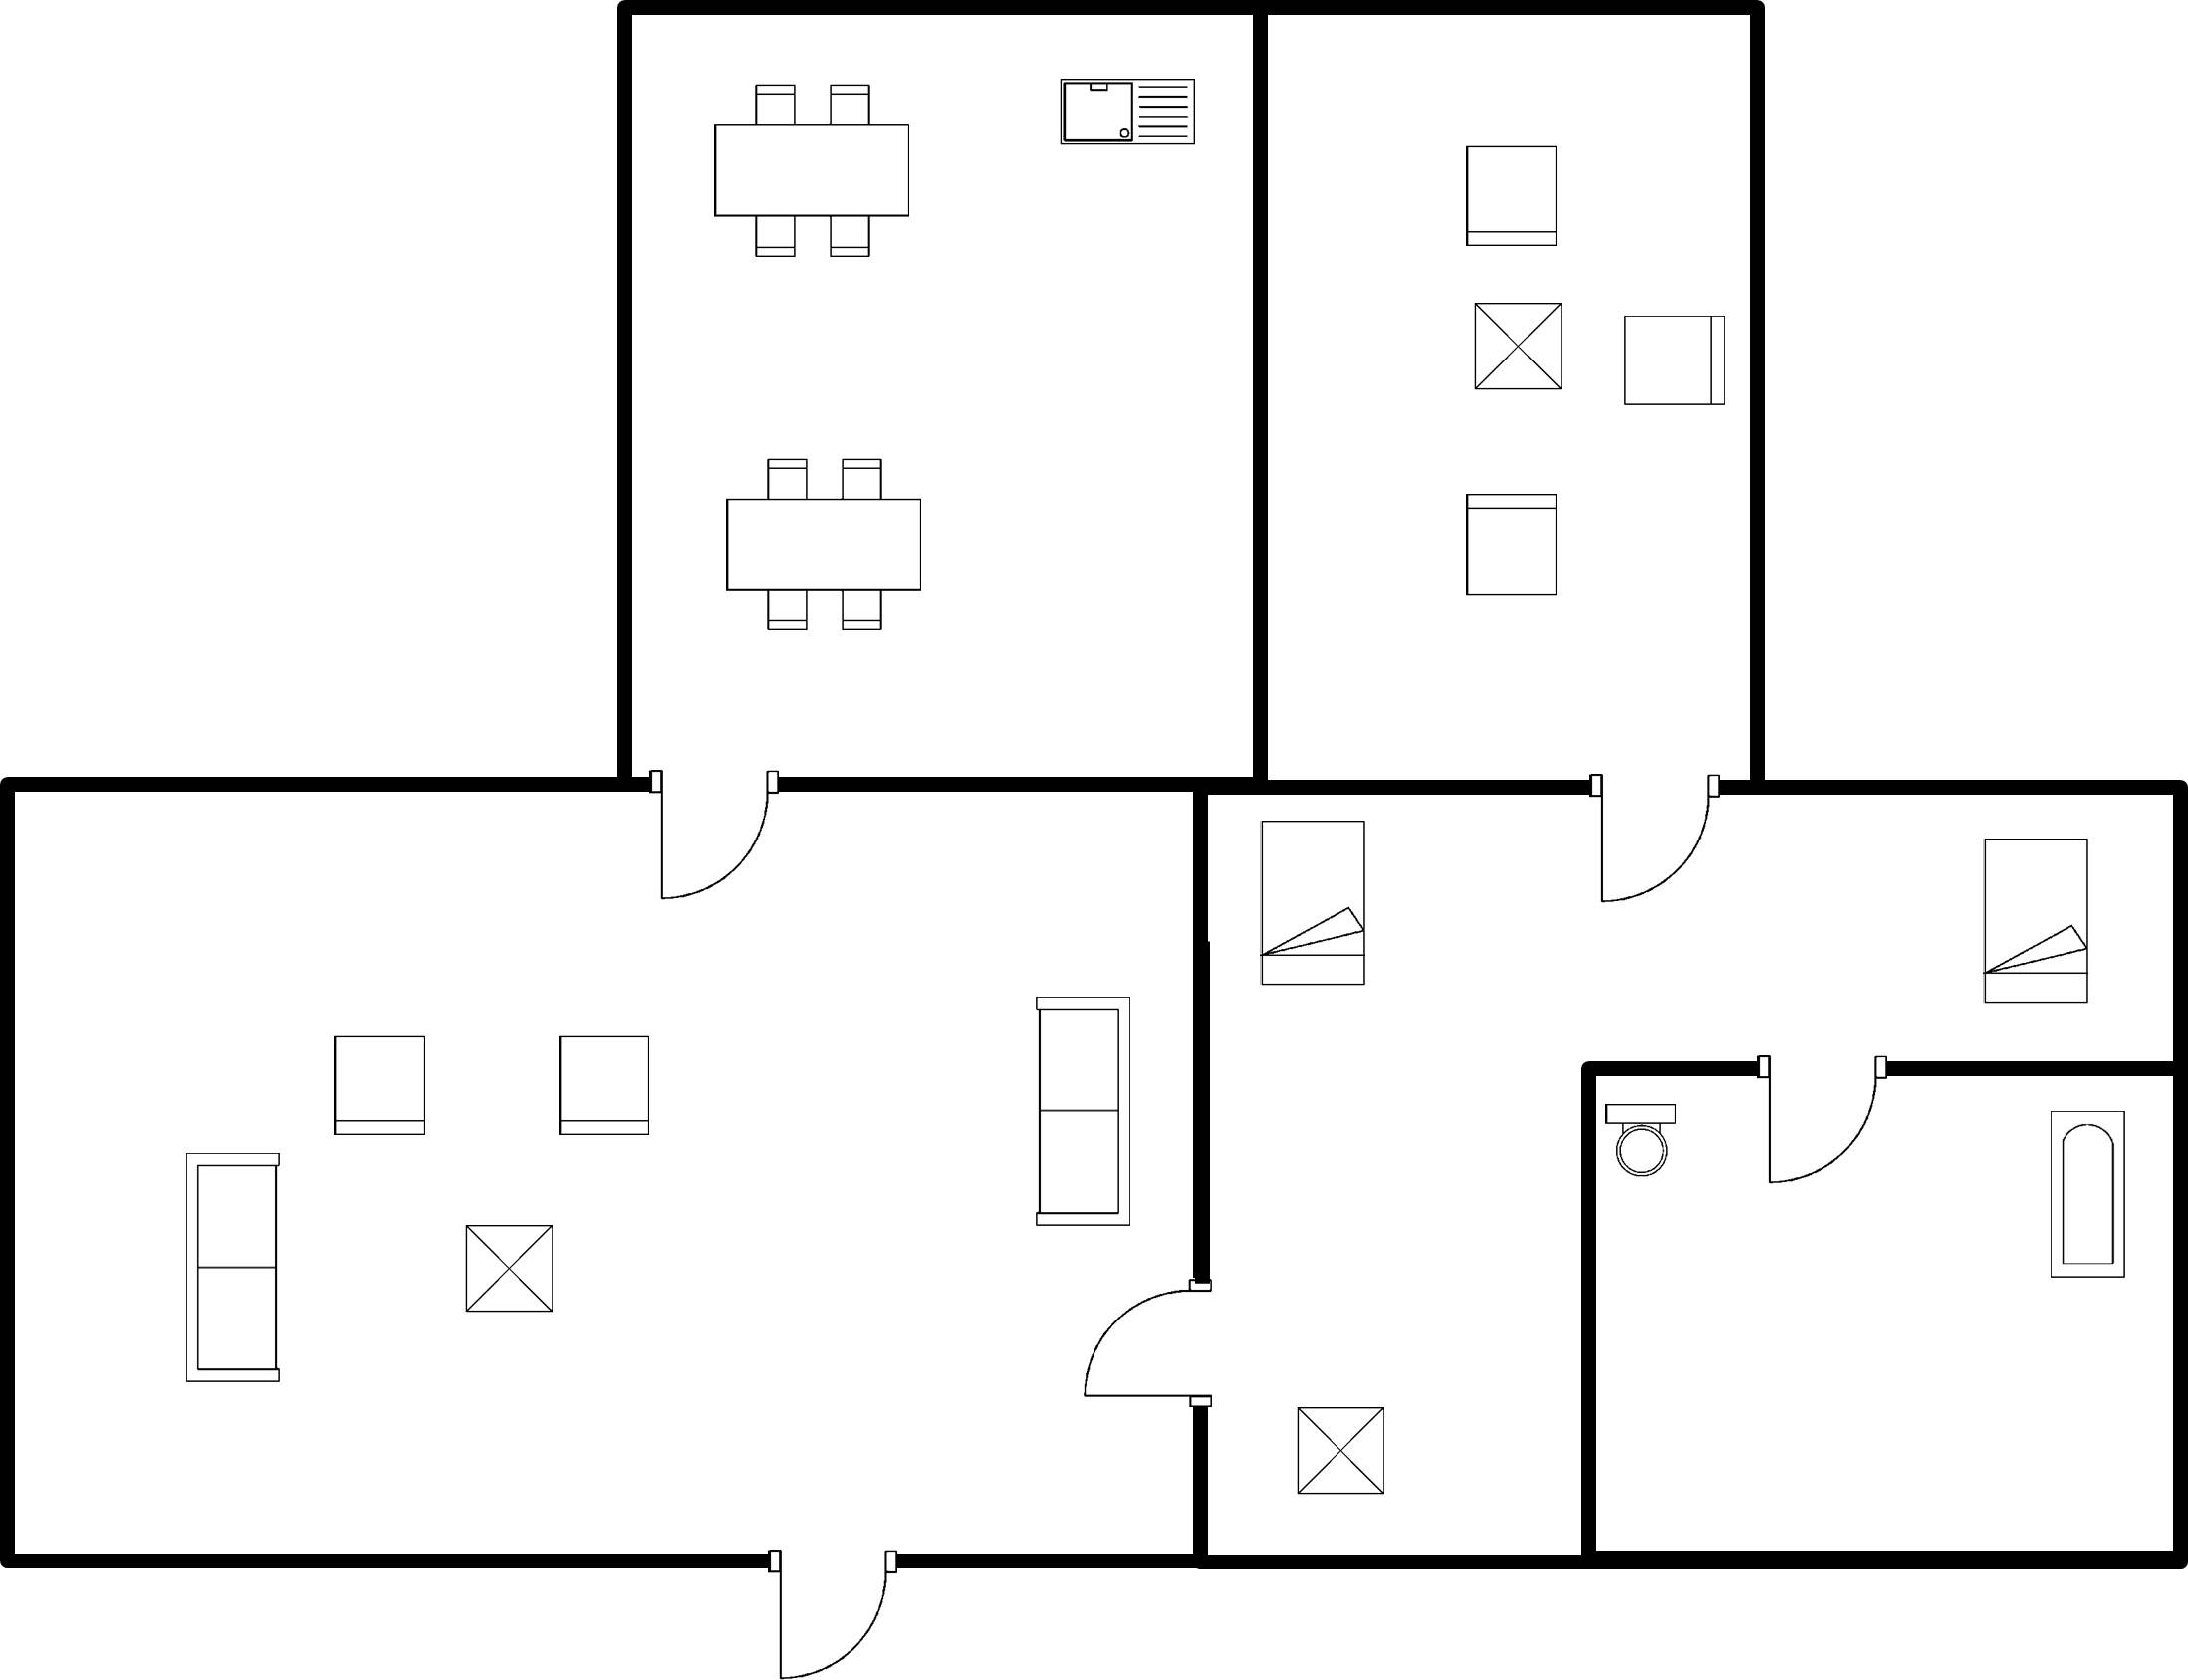bed: (1250, 810, 1380, 1000), (1971, 827, 2100, 1011)
coffee_table: (1459, 293, 1580, 405), (449, 1212, 564, 1324), (1286, 1398, 1395, 1506), (1599, 1090, 1685, 1189)
dining_table: (698, 67, 929, 270), (711, 446, 933, 645)
large_sofa: (1025, 978, 1140, 1240), (175, 1141, 288, 1391)
sink: (1049, 66, 1210, 160)
small_sofa: (1450, 132, 1573, 258), (1607, 307, 1738, 423), (1452, 484, 1572, 607), (326, 1023, 440, 1146), (549, 1024, 662, 1143)
tub: (2039, 1095, 2134, 1290)
